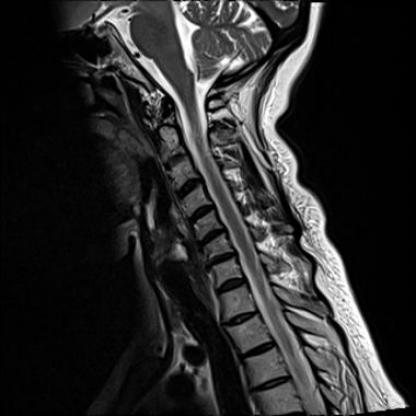Disc Bulgerotation: (187, 205, 216, 220), (198, 228, 226, 243), (208, 252, 237, 266)
